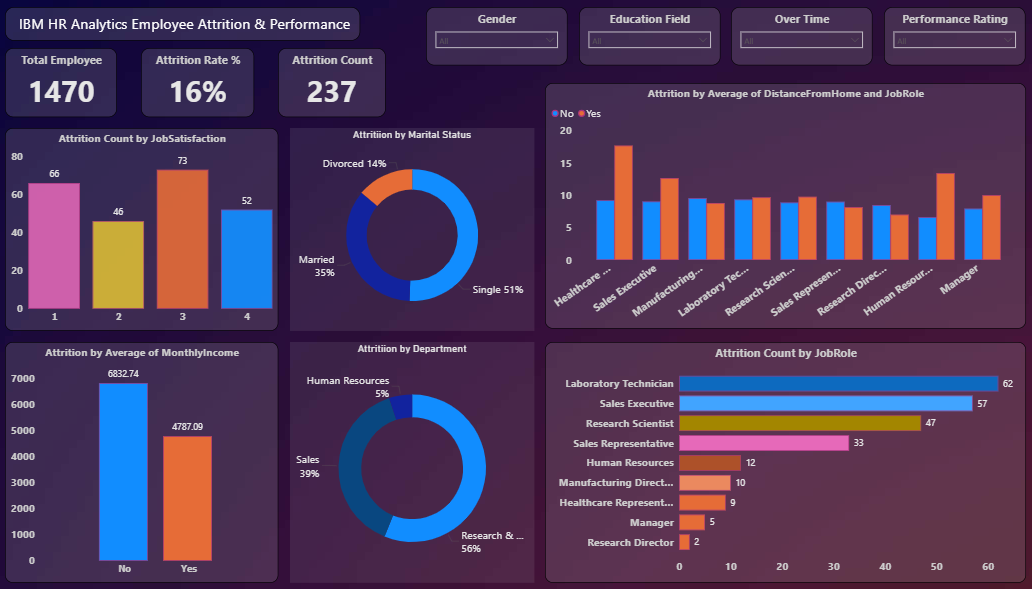

What the dashboard file says about the page in this screenshot:
{"tool":"powerbi","page":{"name":"Page 1","canvas":[1720,980],"ordinal":0},"visuals":[{"type":"textbox","box":[11.2,11.2,590.1,55.8],"z":0},{"type":"clusteredBarChart","title":"Attrition Count by JobRole","fields":{"Category":["IBM_Dataset.JobRole"],"Y":["IBM_Dataset.Attrition Yes Count"]},"box":[908.4,567.7,798.6,400.2],"z":1000},{"type":"card","title":"Total Employee","fields":{"Values":["CountNonNull(IBM_Dataset.EmployeeNumber)"]},"box":[11.2,80,186.1,115.4],"z":2000},{"type":"card","title":"Attrition Count","fields":{"Values":["IBM_Dataset.Attrition Yes Count"]},"box":[465.4,80,178.7,115.4],"z":3000},{"type":"card","title":"Attrition Rate %","fields":{"Values":["IBM_Dataset.Attrition Rate"]},"box":[238.3,80,188,115.4],"z":4000},{"type":"clusteredColumnChart","title":"Attrition by Average of DistanceFromHome and JobRole ","fields":{"Category":["IBM_Dataset.JobRole"],"Y":["Avg(IBM_Dataset.DistanceFromHome)"],"Series":["IBM_Dataset.Attrition"]},"box":[909.2,137.9,798.5,408.3],"z":5000},{"type":"clusteredColumnChart","title":" Attrition by Average of MonthlyIncome","fields":{"Category":["IBM_Dataset.Attrition"],"Y":["Avg(IBM_Dataset.MonthlyIncome)"]},"box":[11.2,567.7,454.2,400.2],"z":6000},{"type":"clusteredColumnChart","title":"Attrition Count by JobSatisfaction","fields":{"Y":["IBM_Dataset.Attrition Yes Count"],"Category":["IBM_Dataset.JobSatisfaction"]},"box":[11.2,212.2,454.2,336.9],"z":7000},{"type":"donutChart","title":"Attritiion by Department","fields":{"Category":["IBM_Dataset.Department"],"Y":["IBM_Dataset.Attrition Yes Count"]},"box":[485.8,567.7,405.8,400.2],"z":8000},{"type":"slicer","title":"Performance Rating","fields":{"Values":["IBM_Dataset.PerformanceRating"]},"box":[1472.4,11.2,234.5,96.8],"z":9000},{"type":"slicer","title":"Over Time","fields":{"Values":["IBM_Dataset.OverTime"]},"box":[1217.4,11.2,234.5,96.8],"z":10000},{"type":"slicer","title":"Education Field","fields":{"Values":["IBM_Dataset.EducationField"]},"box":[964.2,11.2,234.5,96.8],"z":11000},{"type":"donutChart","title":"Attritiion by Marital Status","fields":{"Y":["IBM_Dataset.Attrition Yes Count"],"Category":["IBM_Dataset.MaritalStatus"]},"box":[485.8,212.2,405.8,336.9],"z":12000},{"type":"slicer","title":"Gender","fields":{"Values":["IBM_Dataset.Gender"]},"box":[711.1,11.2,234.5,96.8],"z":13000}]}

Visuals, with their boxes in screenshot pixels (x1, y1, x2, y2), scaled from the page's 1720x980 canvas onto the 1032x589 screenshot:
textbox: x1=7, y1=7, x2=361, y2=40
"Attrition Count by JobRole" clusteredBarChart: x1=545, y1=341, x2=1024, y2=582
"Total Employee" card: x1=7, y1=48, x2=118, y2=117
"Attrition Count" card: x1=279, y1=48, x2=386, y2=117
"Attrition Rate %" card: x1=143, y1=48, x2=256, y2=117
"Attrition by Average of DistanceFromHome and JobRole " clusteredColumnChart: x1=546, y1=83, x2=1025, y2=328
" Attrition by Average of MonthlyIncome" clusteredColumnChart: x1=7, y1=341, x2=279, y2=582
"Attrition Count by JobSatisfaction" clusteredColumnChart: x1=7, y1=128, x2=279, y2=330
"Attritiion by Department" donutChart: x1=291, y1=341, x2=535, y2=582
"Performance Rating" slicer: x1=883, y1=7, x2=1024, y2=65
"Over Time" slicer: x1=730, y1=7, x2=871, y2=65
"Education Field" slicer: x1=579, y1=7, x2=719, y2=65
"Attritiion by Marital Status" donutChart: x1=291, y1=128, x2=535, y2=330
"Gender" slicer: x1=427, y1=7, x2=567, y2=65
